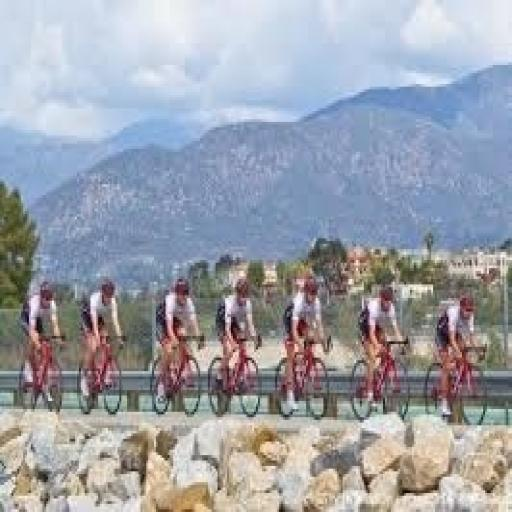cycling: (277, 271, 335, 417), (150, 274, 206, 409), (354, 279, 410, 409), (75, 274, 129, 406), (18, 276, 68, 409), (431, 290, 481, 422), (214, 271, 264, 401)
